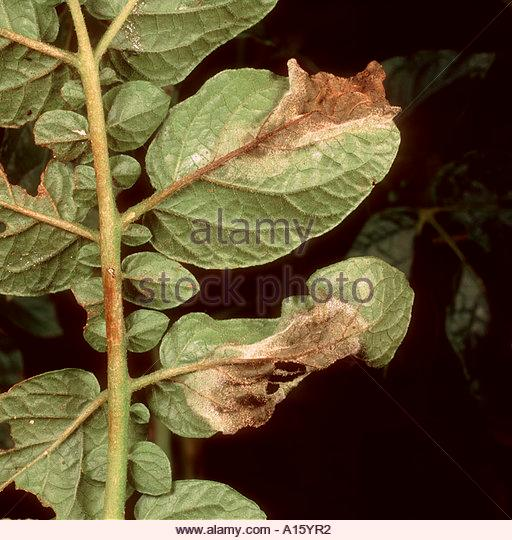Tomato leaf late blight: (144, 53, 413, 271), (139, 250, 423, 440)
